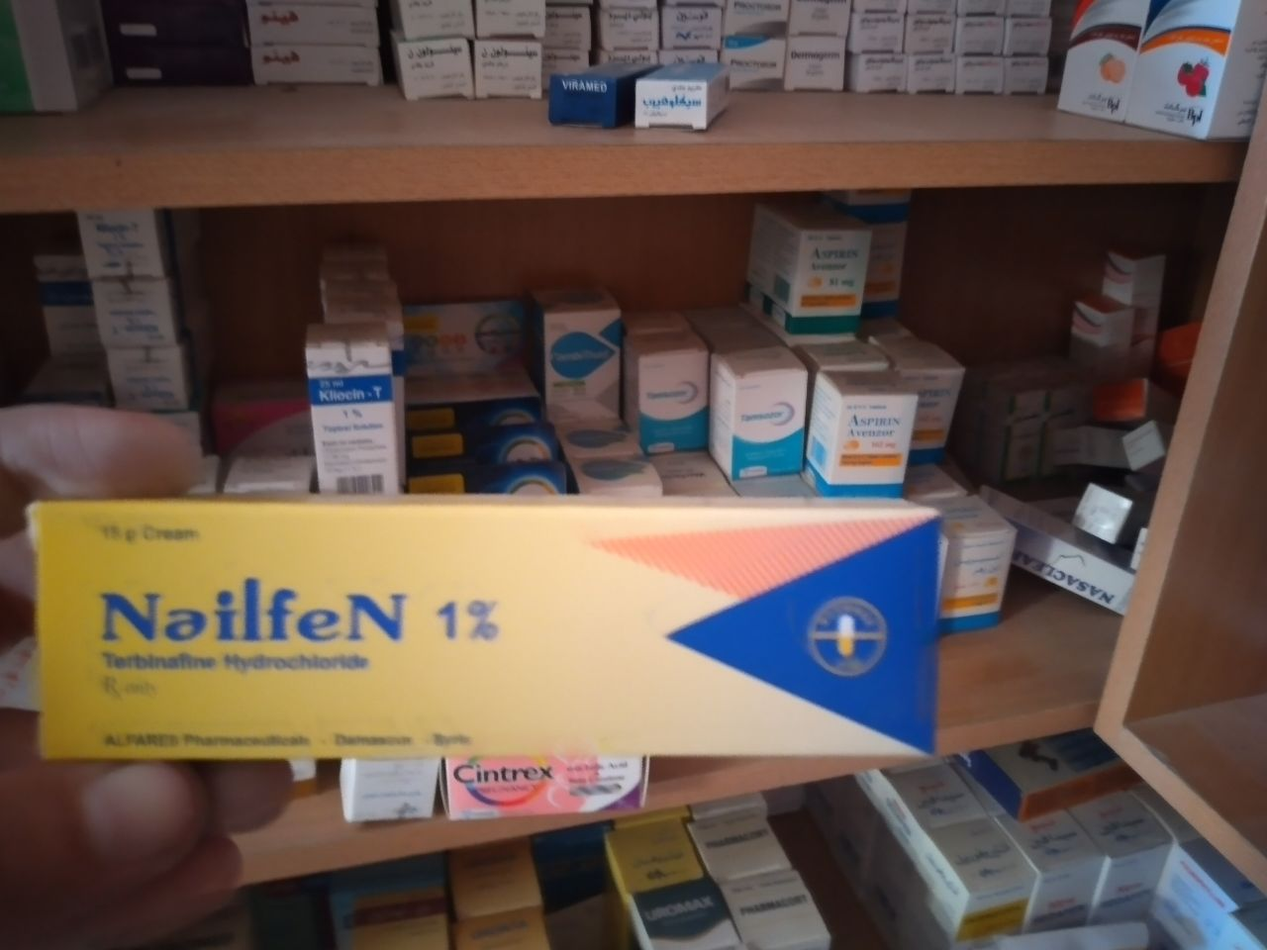Medicine: (27, 477, 943, 809), (1136, 0, 1255, 161), (292, 322, 403, 492), (745, 195, 871, 334), (532, 287, 621, 430), (621, 334, 718, 460), (713, 349, 799, 475), (814, 369, 906, 480), (1059, 0, 1123, 126), (643, 59, 732, 134), (542, 59, 621, 121), (1069, 287, 1131, 361)
